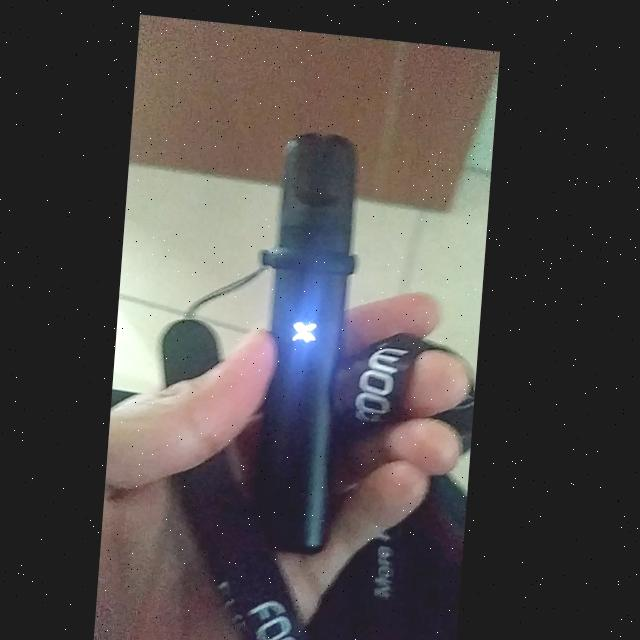vape: (258, 122, 364, 554)
